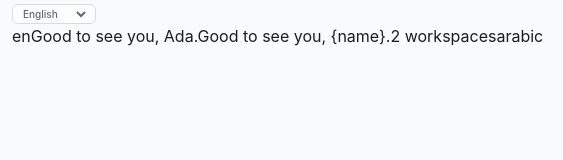
Test: I18nProvider › changes language from the toggle
Select "Français" in the dropdown at point(54, 14), box [19, 7, 89, 21]
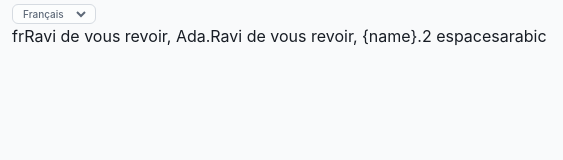
Check: the text with test id "language" reads "fr", box [12, 26, 24, 46]
Check: the text with test id "greeting" reads "Ravi de vous revoir, Ada.", box [24, 26, 210, 46]
